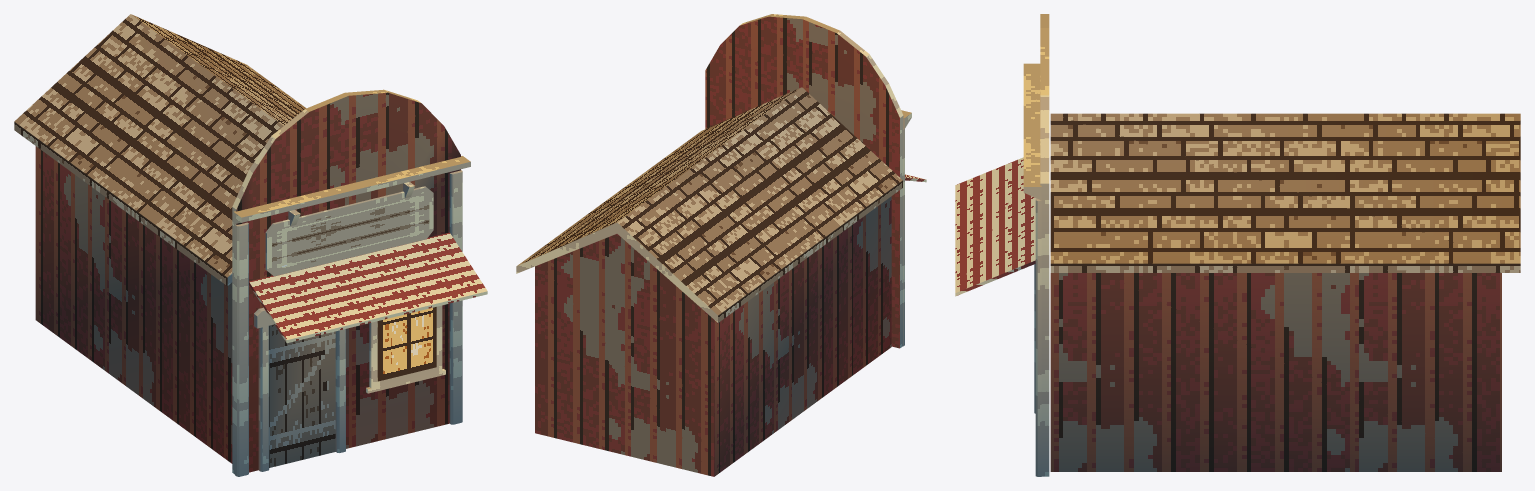
Rendered from wtown.facade__c_arched.glb.
3 views of the same model, side by side, from view 1: azimuth 30°, elevation 25°; view 2: azimuth 150°, elevation 25°; view 3: azimuth 270°, elevation 25° (orthographic). The views are drawn at different scales.
Visible parts, largest first — view 1: kit_roof, kit_body, kit_front, kit_card_panes, kit_trim, kit_awning, kit_windows; view 2: kit_body, kit_roof, kit_front, kit_trim; view 3: kit_body, kit_roof, kit_awning, kit_trim, kit_front.
Part boxes in pixels (x1,y1,x2,y2): kit_roof: (14, 14, 306, 285); kit_body: (35, 146, 232, 463); kit_front: (232, 89, 460, 474); kit_card_panes: (269, 192, 436, 467); kit_trim: (233, 156, 470, 476); kit_awning: (249, 232, 487, 343); kit_windows: (366, 305, 445, 393); kit_body: (535, 196, 891, 476); kit_roof: (516, 87, 902, 322); kit_front: (705, 14, 903, 348); kit_trim: (901, 110, 911, 346); kit_body: (1050, 273, 1501, 471); kit_roof: (1050, 113, 1520, 272); kit_awning: (955, 157, 1035, 296); kit_trim: (1023, 63, 1041, 476); kit_front: (1040, 14, 1049, 476).
Bounding box in the file's own units: 3.94 × 5.7 × 7.52.
Materials: 7 (7 with a texture image).
